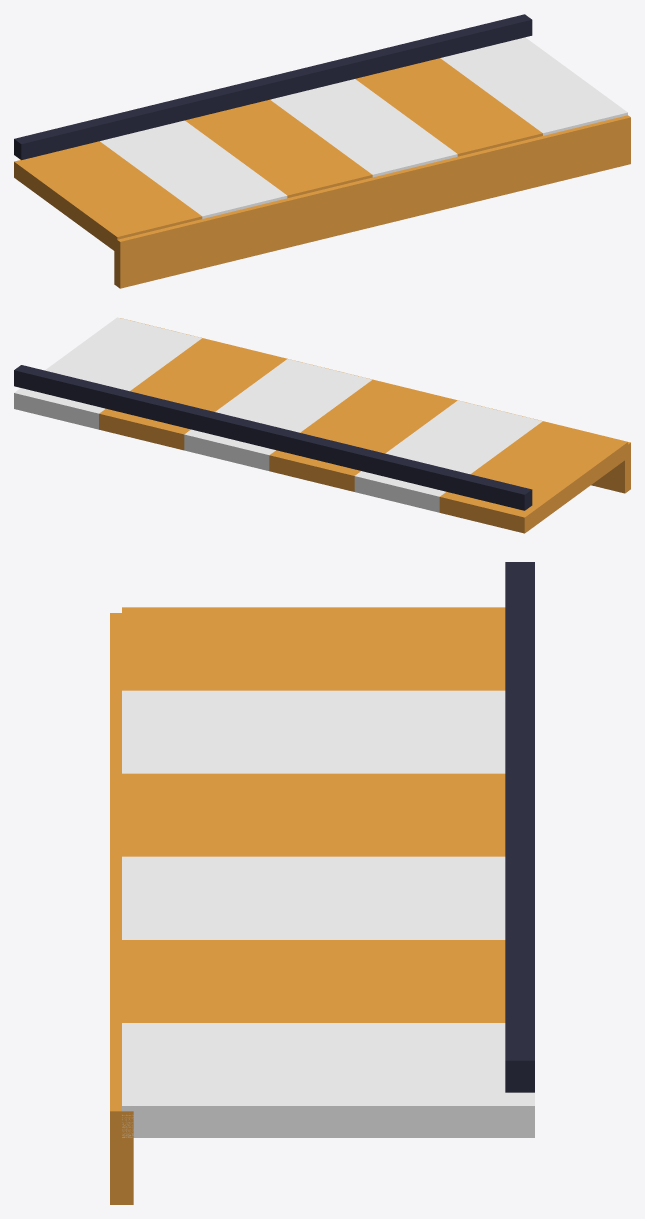
The model's file is awning.glb.
The picture shows the model from 3 angles, top to bottom: view 1: azimuth 30°, elevation 25°; view 2: azimuth 150°, elevation 25°; view 3: azimuth 270°, elevation 25°; orthographic projection. The views are drawn at different scales.
Parts seen in each view (by area): view 1: awning_awning, awning_white, awning_black; view 2: awning_awning, awning_white, awning_black; view 3: awning_white, awning_awning, awning_black.
Part boxes in pixels (x1,y1,x2,y2): awning_awning: (14, 58, 630, 288); awning_white: (100, 37, 627, 218); awning_black: (14, 14, 532, 160); awning_awning: (99, 318, 630, 533); awning_white: (14, 317, 542, 512); awning_black: (14, 365, 532, 510); awning_white: (122, 690, 534, 1137); awning_awning: (110, 607, 505, 1204); awning_black: (505, 562, 534, 1092).
Size of the model in its own units: 4 by 0.54 by 1.44.
